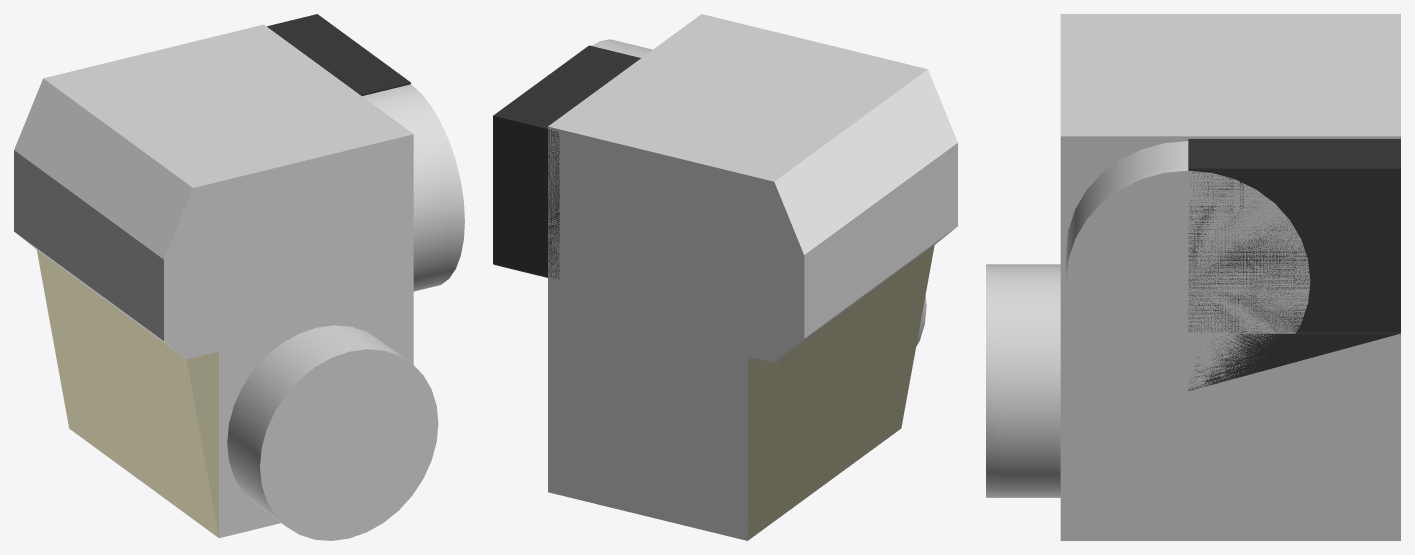
The picture shows the model from 3 angles, left to right: view 1: azimuth 30°, elevation 25°; view 2: azimuth 150°, elevation 25°; view 3: azimuth 270°, elevation 25°; orthographic projection. The views are drawn at different scales.
Parts seen in each view (by area): view 1: 臂3新_15; view 2: 臂3新_15; view 3: 臂3新_15.
Part boxes in pixels (x1,y1,x2,y2): 臂3新_15: (14,14,464,540); 臂3新_15: (493,14,957,540); 臂3新_15: (986,14,1400,540).
Size of what is drawn, in the model's own units: 187 by 195 by 210.
